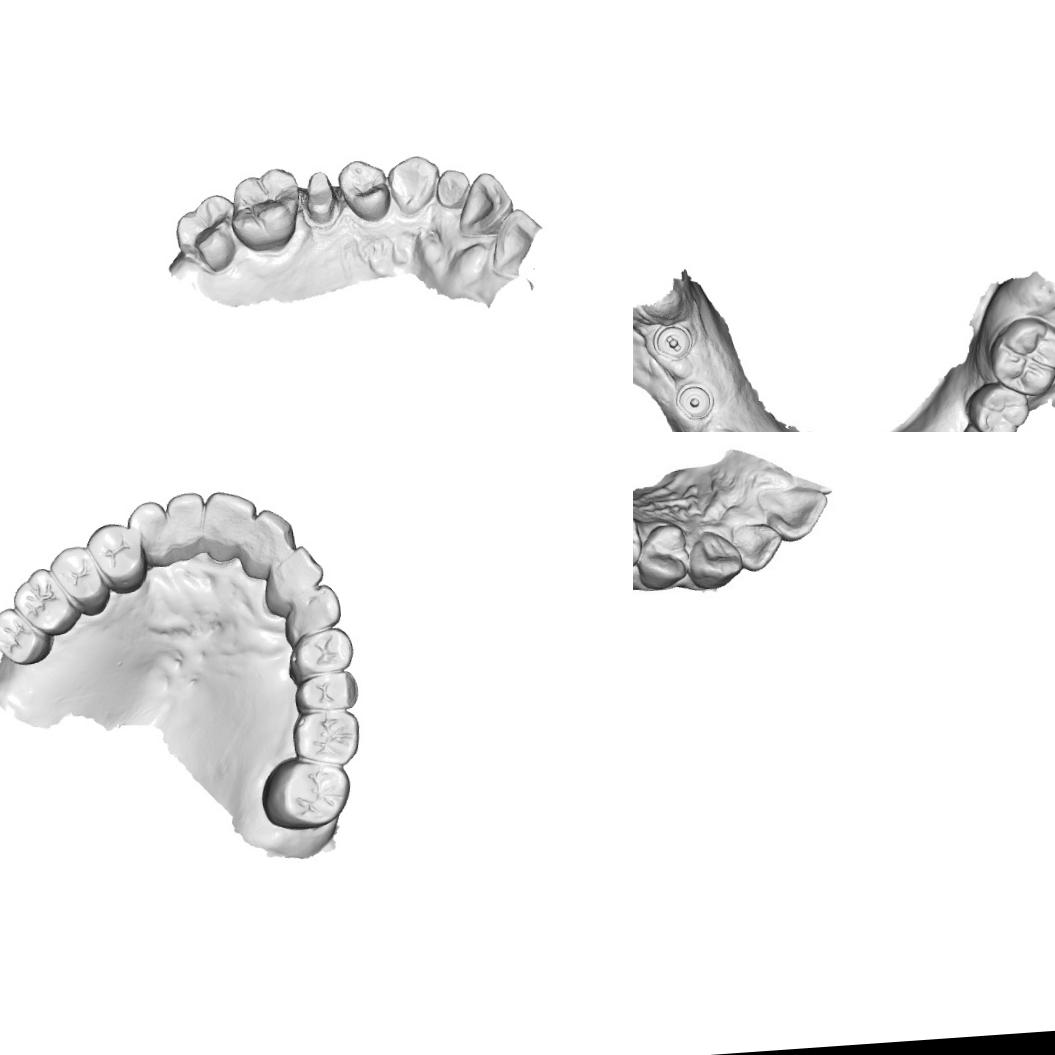canine: (125, 496, 178, 571), (686, 529, 743, 595), (386, 153, 442, 218), (283, 582, 342, 637)
crown: (298, 166, 344, 233)
implant: (667, 374, 724, 427)
implant_minus: (646, 316, 698, 366)
incisor: (199, 487, 260, 564), (454, 169, 516, 238), (246, 505, 296, 583), (266, 542, 325, 606), (162, 487, 212, 562), (761, 483, 825, 540), (734, 521, 781, 572), (433, 167, 471, 210)
molar: (256, 753, 353, 834), (226, 166, 303, 253), (172, 190, 244, 276), (986, 314, 1055, 400), (8, 563, 80, 640), (289, 706, 364, 770), (963, 375, 1033, 432), (0, 601, 53, 668)
premolar: (82, 519, 152, 597), (44, 540, 112, 618), (633, 515, 692, 590), (335, 156, 393, 225), (287, 625, 356, 679), (290, 663, 362, 714), (952, 421, 1010, 432)
